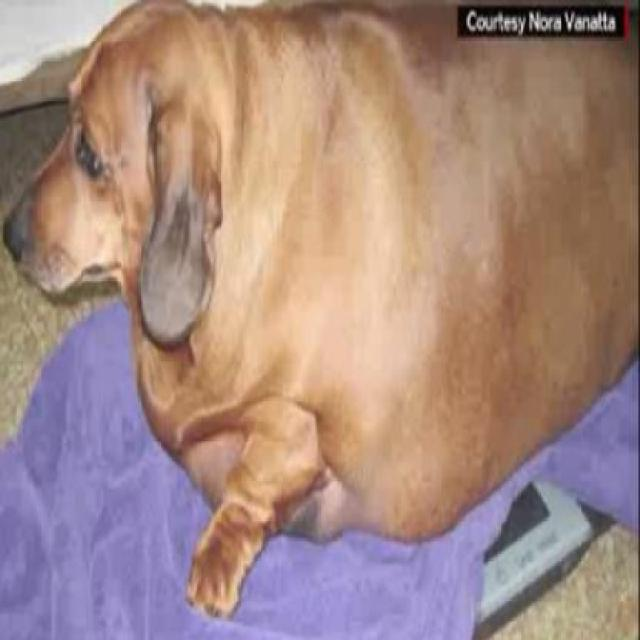Dog: (4, 41, 638, 624)
